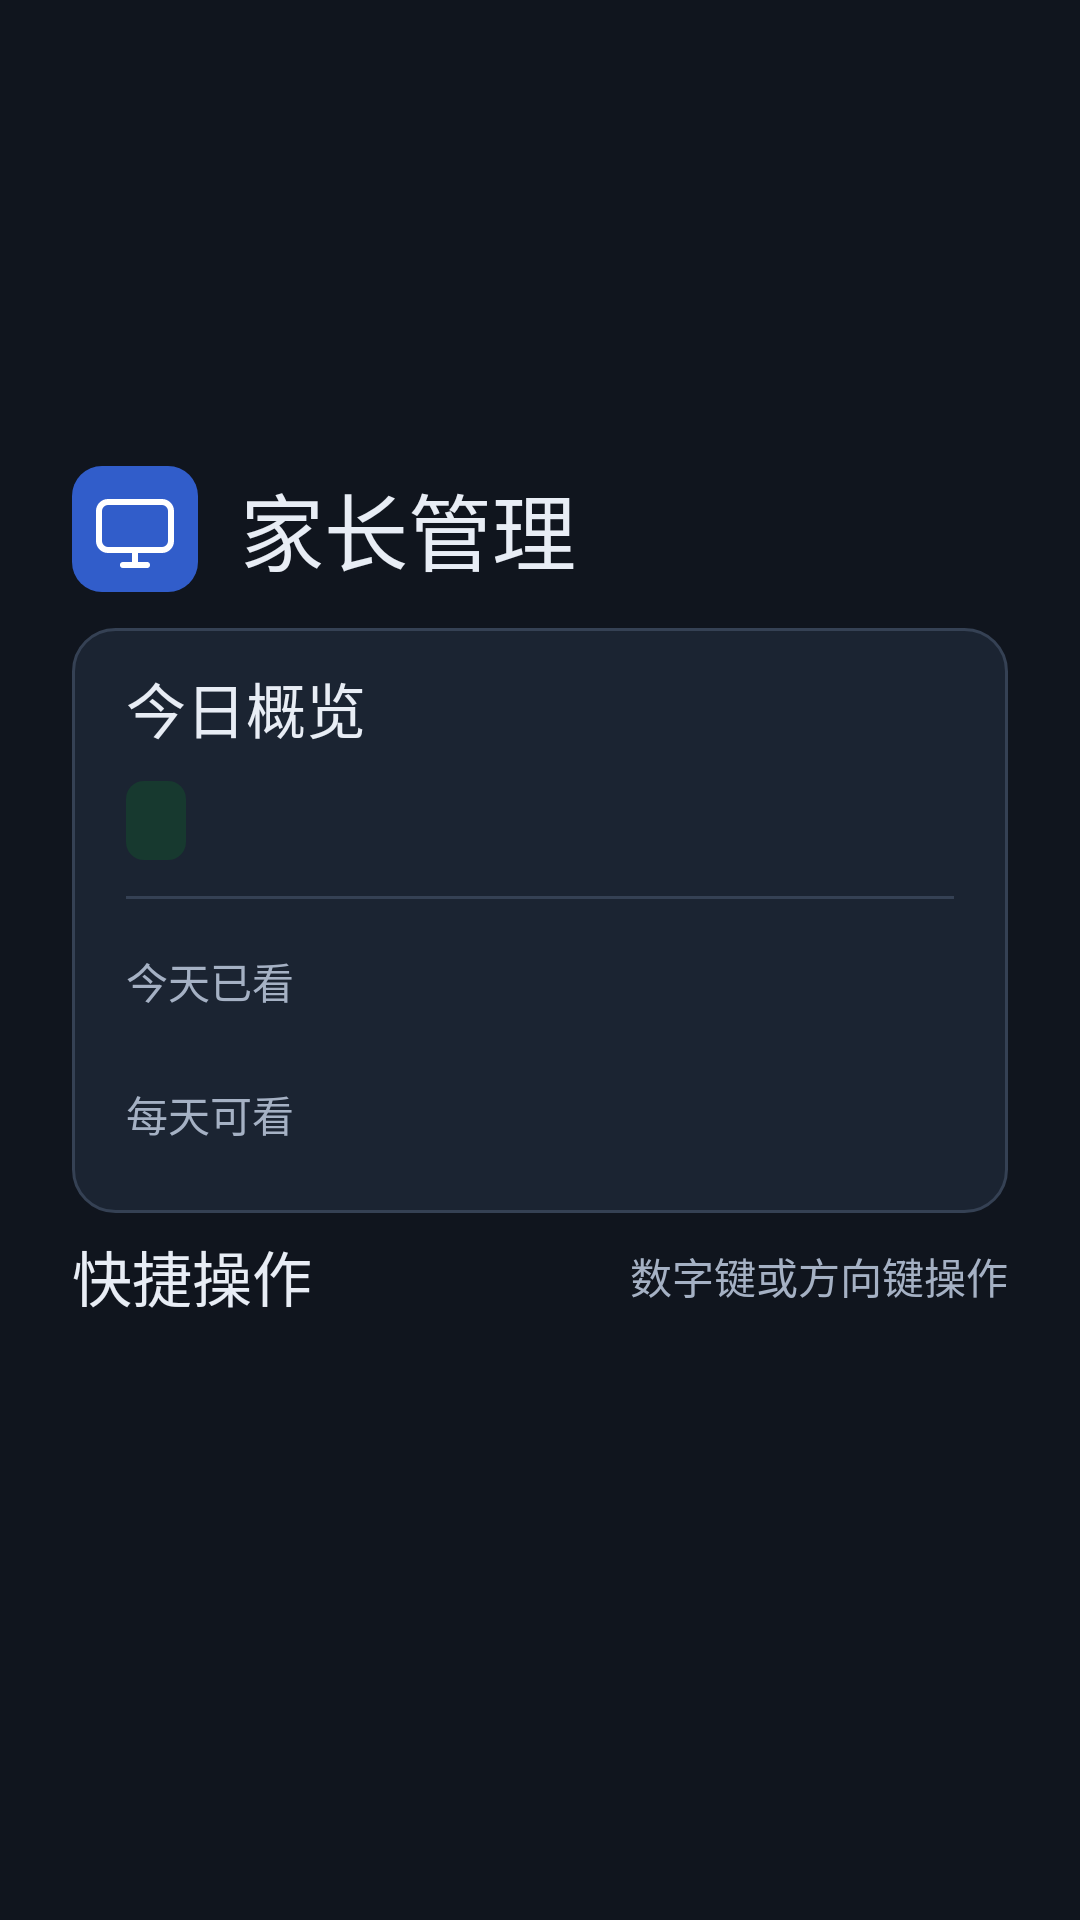

Icon click points for this 1080x1920 phone screenshot, format [x,y]:
parent tv: [135,529]
